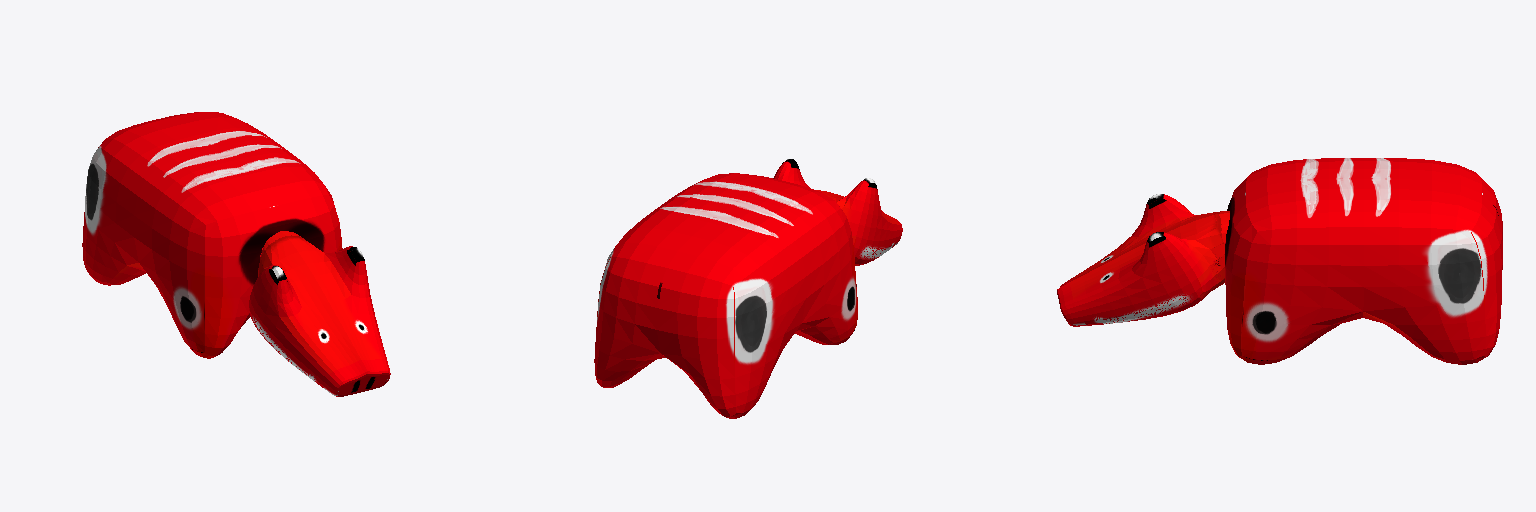
3 renders of one model, left to right at view 1: azimuth 30°, elevation 25°; view 2: azimuth 150°, elevation 25°; view 3: azimuth 270°, elevation 25°, orthographic.
Visible parts, largest first — view 1: 立方体; view 2: 立方体; view 3: 立方体.
Part boxes in pixels (left/top/right/bottom): 立方体: left=82, top=112, right=390, bottom=396; 立方体: left=594, top=159, right=902, bottom=418; 立方体: left=1057, top=158, right=1502, bottom=364.
Bounding box in the file's own units: 2.1 × 1.93 × 5.06.
Materials: 1 (1 with a texture image).